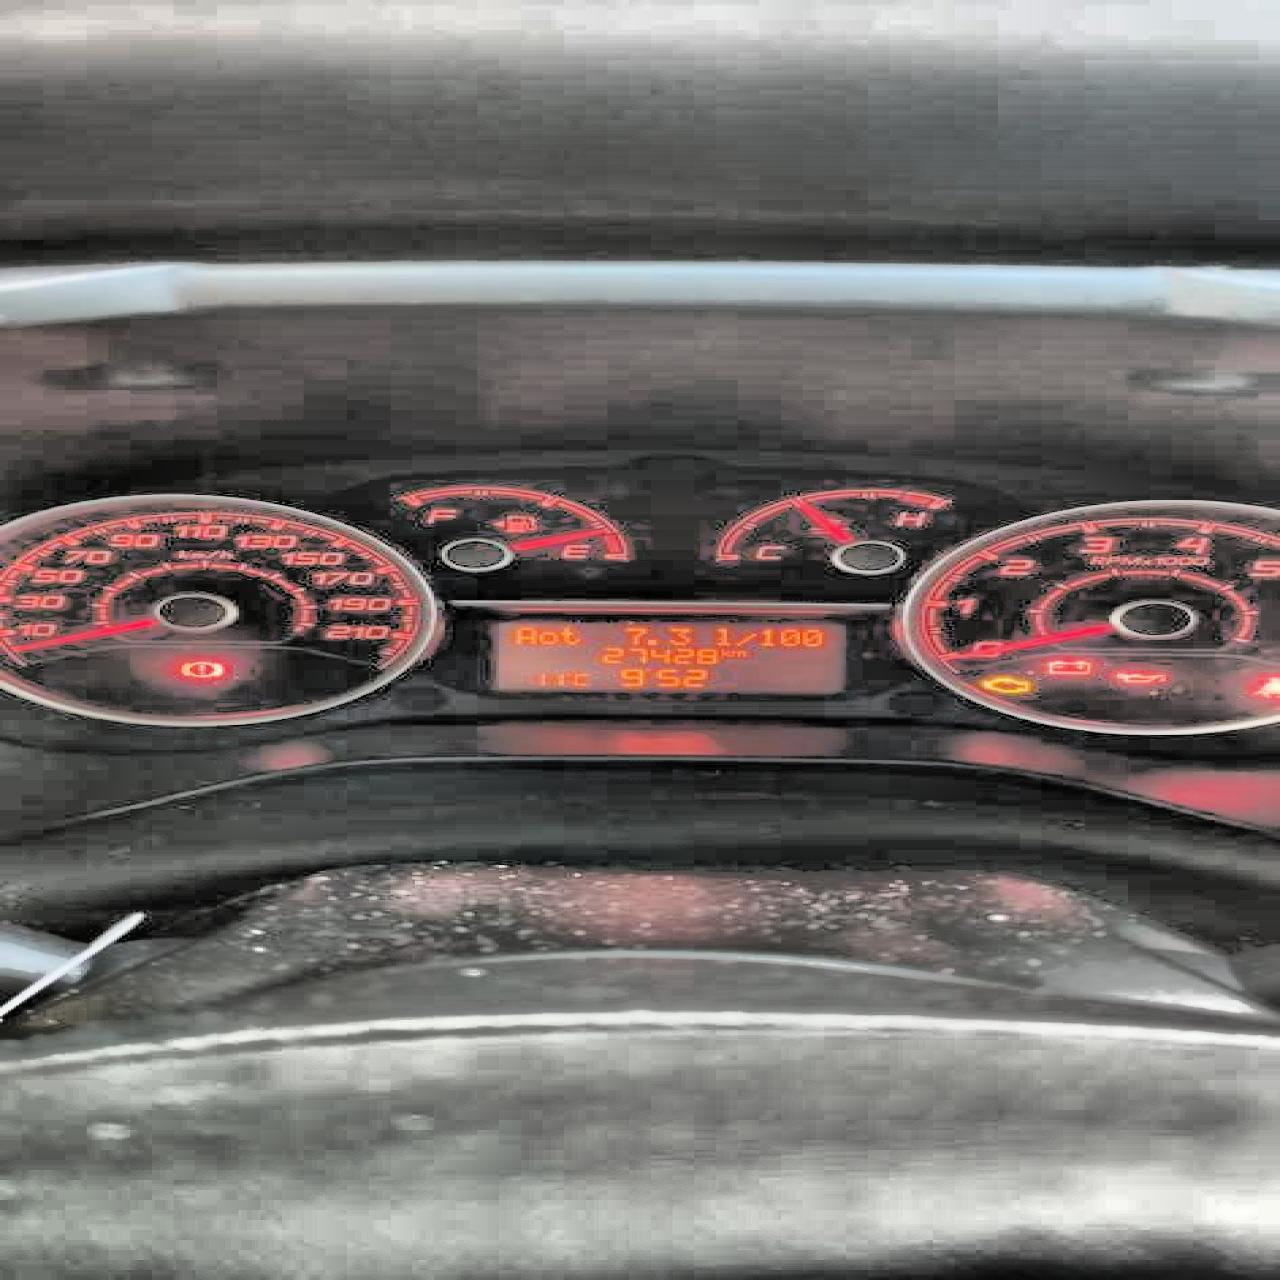-: (642, 636, 659, 645)
0: (778, 627, 799, 647), (801, 627, 822, 647)
1: (760, 626, 772, 647), (553, 670, 564, 688), (537, 670, 545, 686)
2: (681, 667, 708, 687), (599, 646, 621, 663), (669, 646, 692, 663)
3: (667, 625, 692, 645)
4: (648, 647, 669, 663)
5: (654, 667, 679, 687)
7: (624, 626, 645, 645), (626, 647, 646, 662)
8: (694, 646, 716, 663)
9: (619, 667, 646, 687)
X: (512, 625, 535, 644), (558, 625, 578, 645), (713, 625, 730, 646), (733, 631, 757, 645), (537, 629, 556, 645), (570, 670, 588, 686), (729, 648, 745, 656), (719, 647, 727, 656)
odometer: (477, 617, 855, 695)
